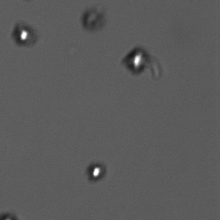Dead Cell: (84, 9, 104, 28)
Living Cell: (126, 50, 148, 71), (14, 26, 33, 43), (89, 164, 105, 180)
